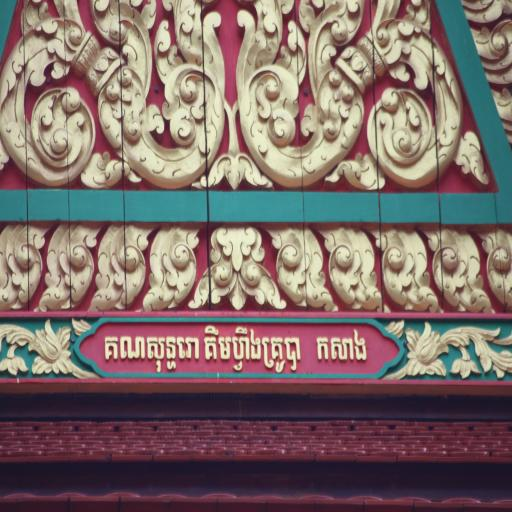la: (1, 0, 226, 184), (242, 0, 466, 183), (194, 228, 279, 311), (406, 321, 512, 383), (374, 221, 439, 312), (269, 225, 337, 311), (0, 320, 97, 375), (323, 225, 385, 311), (430, 226, 490, 313), (89, 225, 150, 310), (142, 226, 202, 311), (40, 224, 100, 306), (0, 218, 49, 309), (483, 222, 512, 312)
